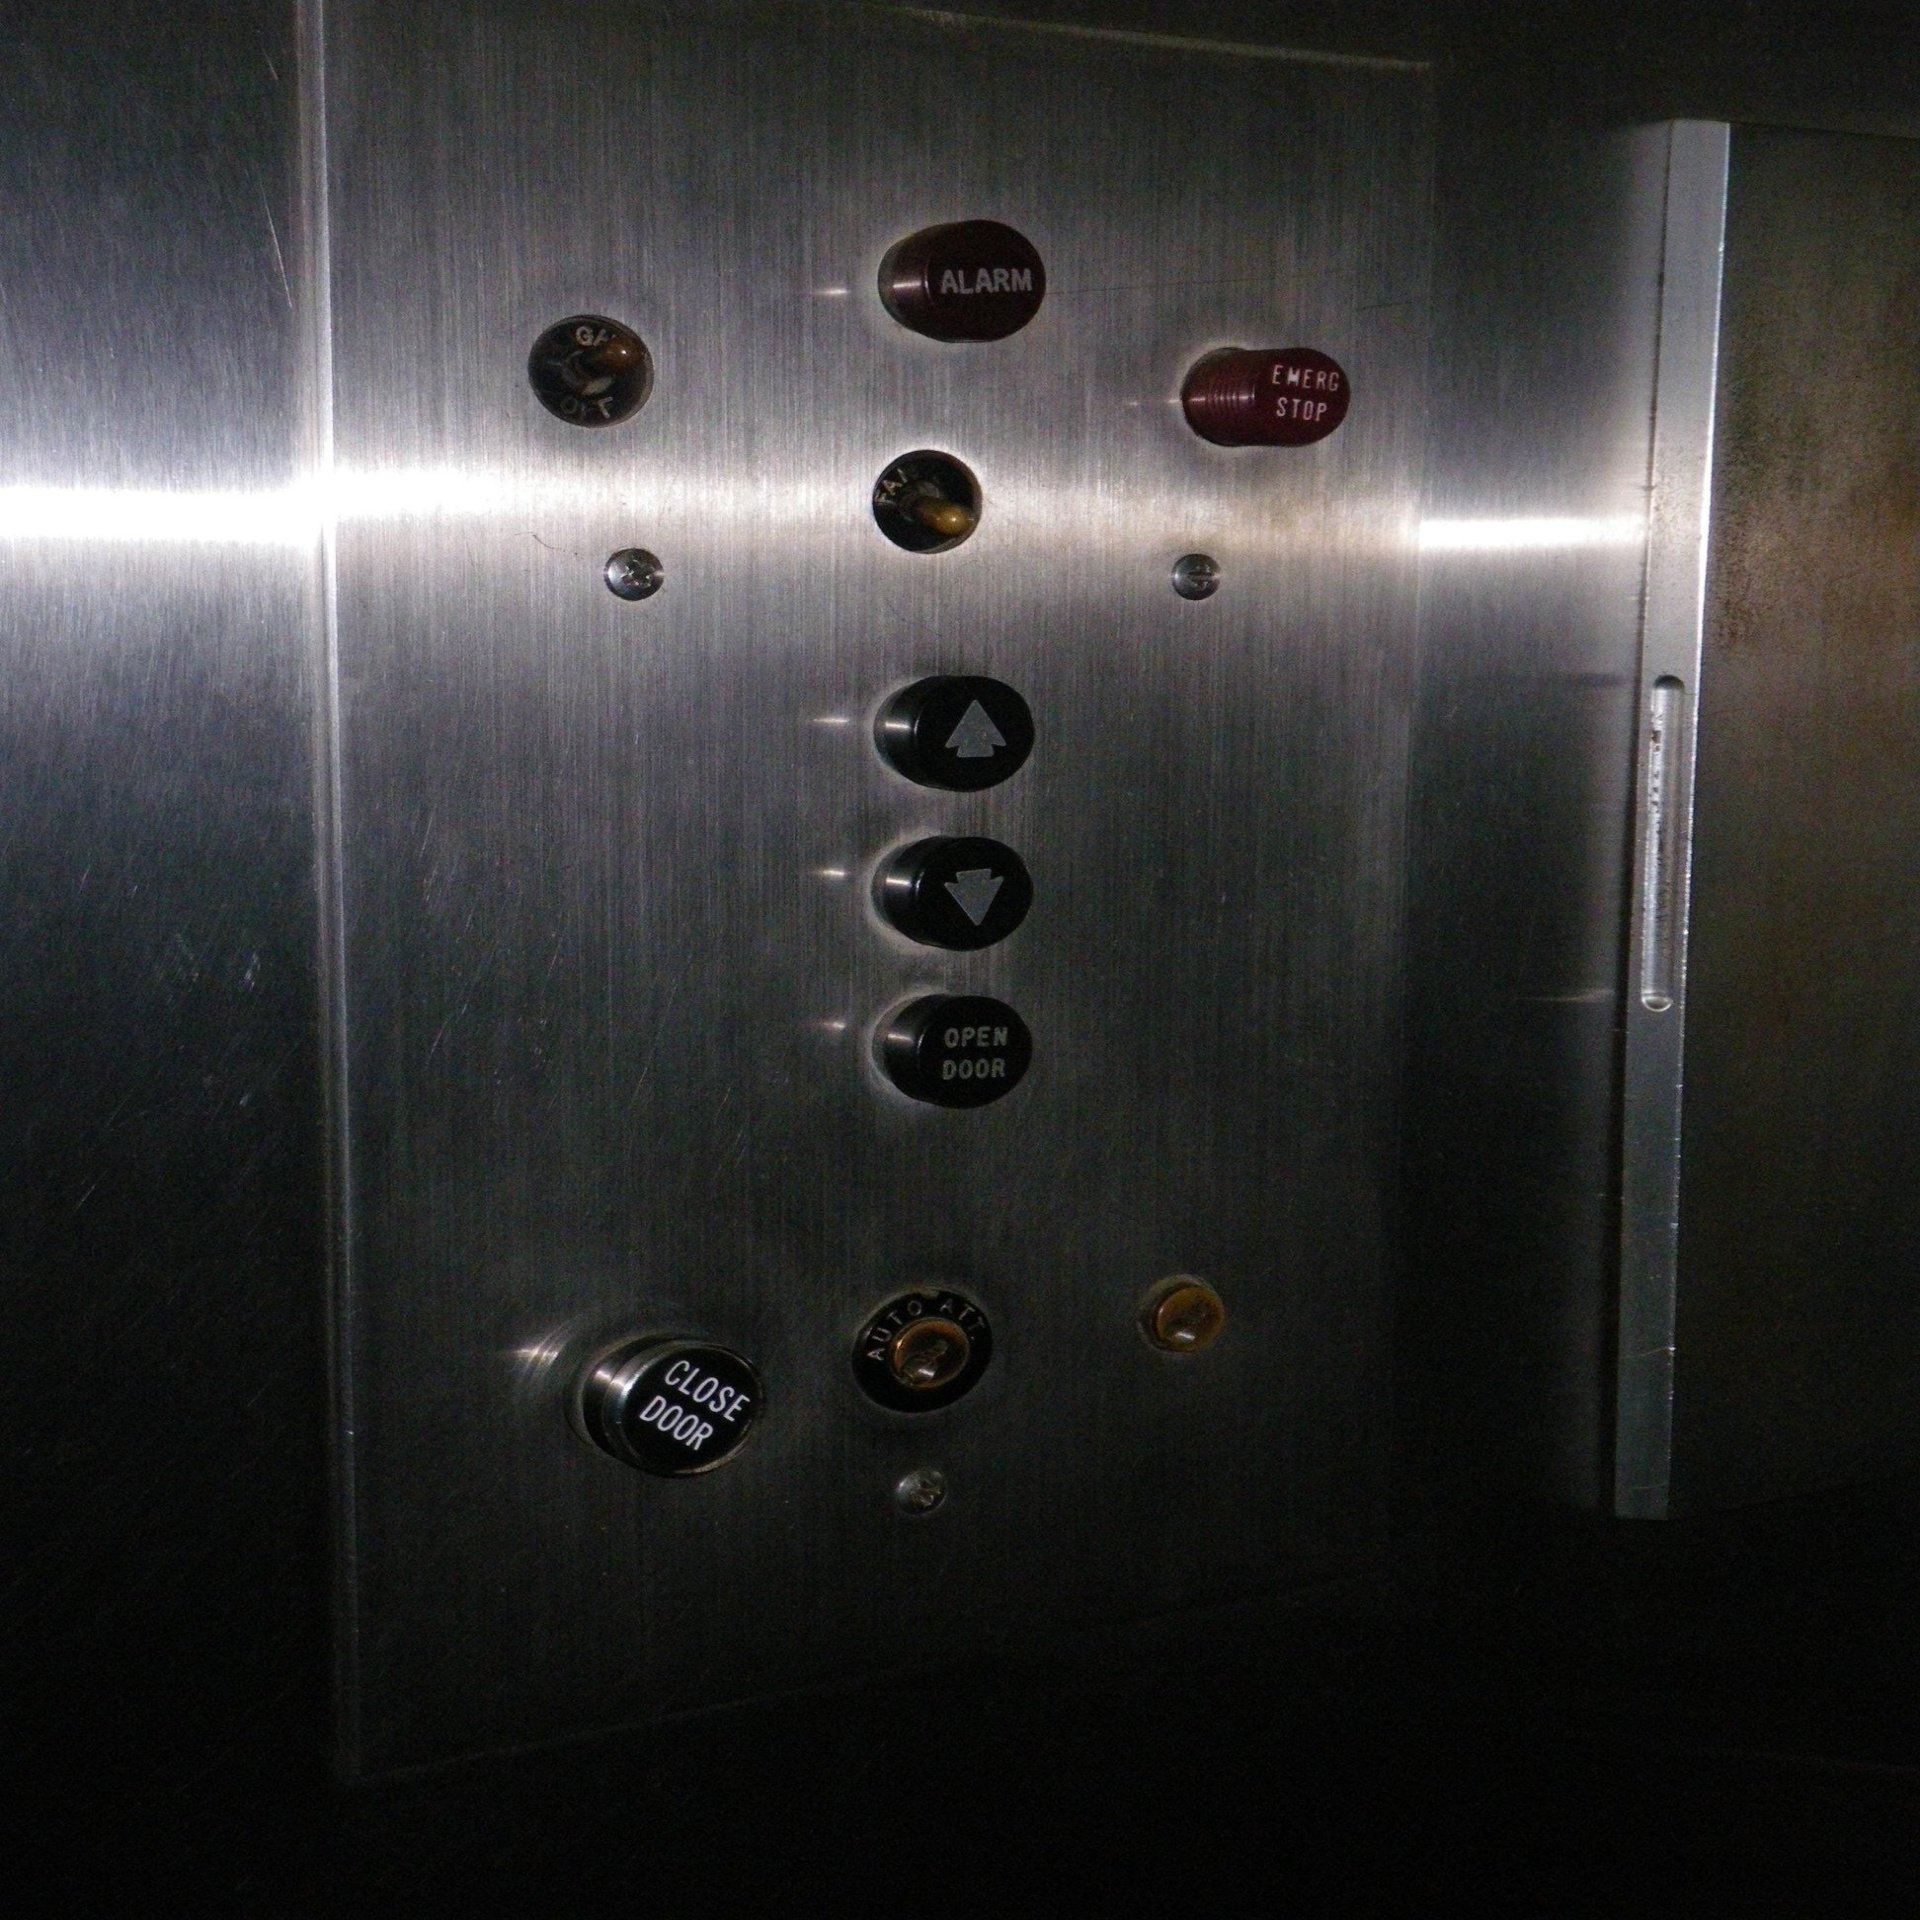down: (872, 835, 1034, 953)
keyhole: (844, 1289, 995, 1417), (1131, 1266, 1231, 1364)
switch: (526, 311, 656, 429), (867, 443, 986, 557)
text: (883, 215, 1046, 352)
text_close: (577, 1335, 765, 1479)
text_open: (872, 993, 1030, 1111)
text_stop: (1178, 341, 1350, 448)
up: (874, 672, 1037, 793)
